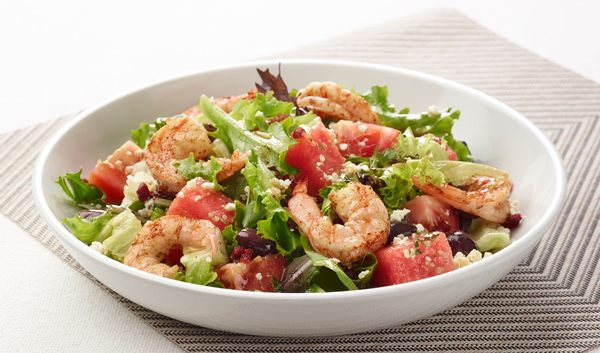sushi: (14, 56, 584, 339)
